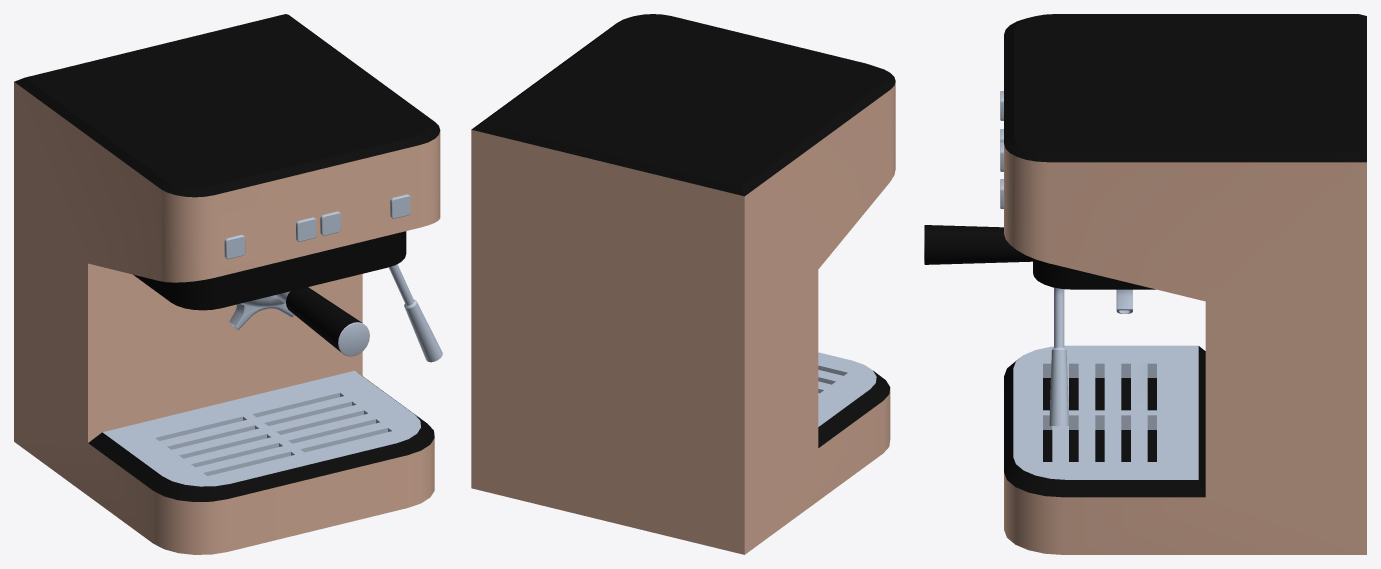
File: COFFEE-MACHINE.glb
The picture shows the model from 3 angles, left to right: view 1: azimuth 30°, elevation 25°; view 2: azimuth 150°, elevation 25°; view 3: azimuth 270°, elevation 25°; orthographic projection. The views are drawn at different scales.
Parts seen in each view (by area): view 1: 1-COFFEE-MACHINE; view 2: 1-COFFEE-MACHINE; view 3: 1-COFFEE-MACHINE.
Boxes of the visible parts, x1,y1,x2,y2 form: 1-COFFEE-MACHINE: [14, 14, 442, 554]; 1-COFFEE-MACHINE: [471, 14, 895, 554]; 1-COFFEE-MACHINE: [924, 14, 1366, 554].
Bounding box in the file's own units: 0.2498 × 0.3044 × 0.3067.
